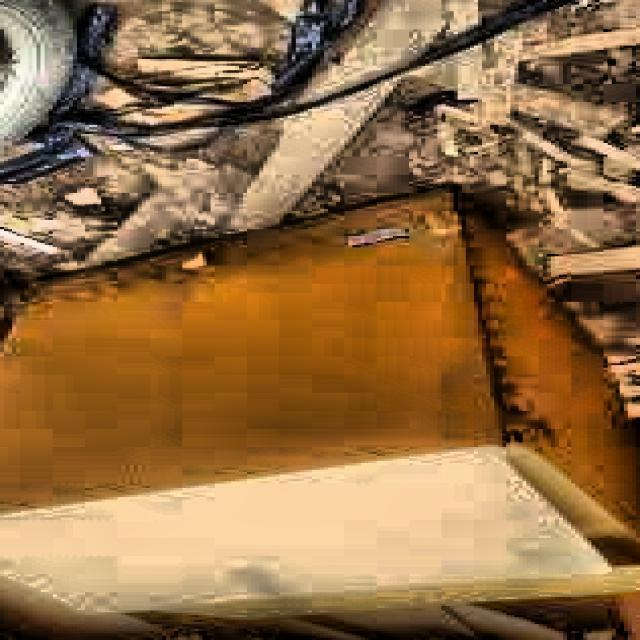cardboard: (0, 188, 640, 622)
